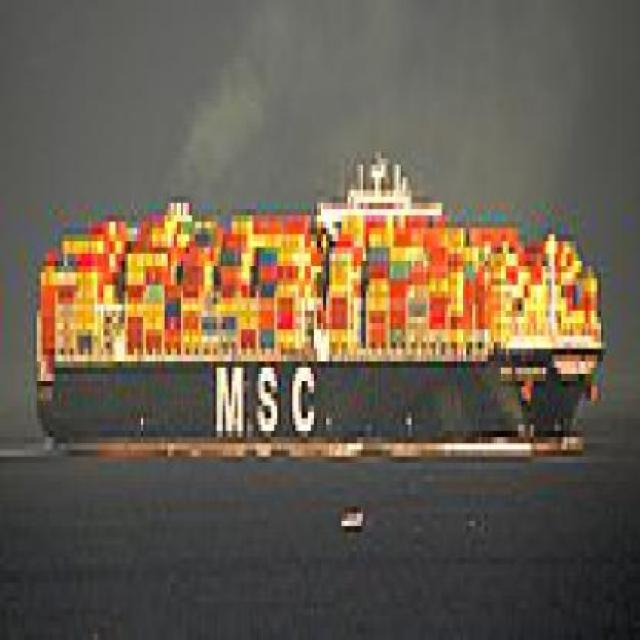container: (31, 141, 614, 464)
